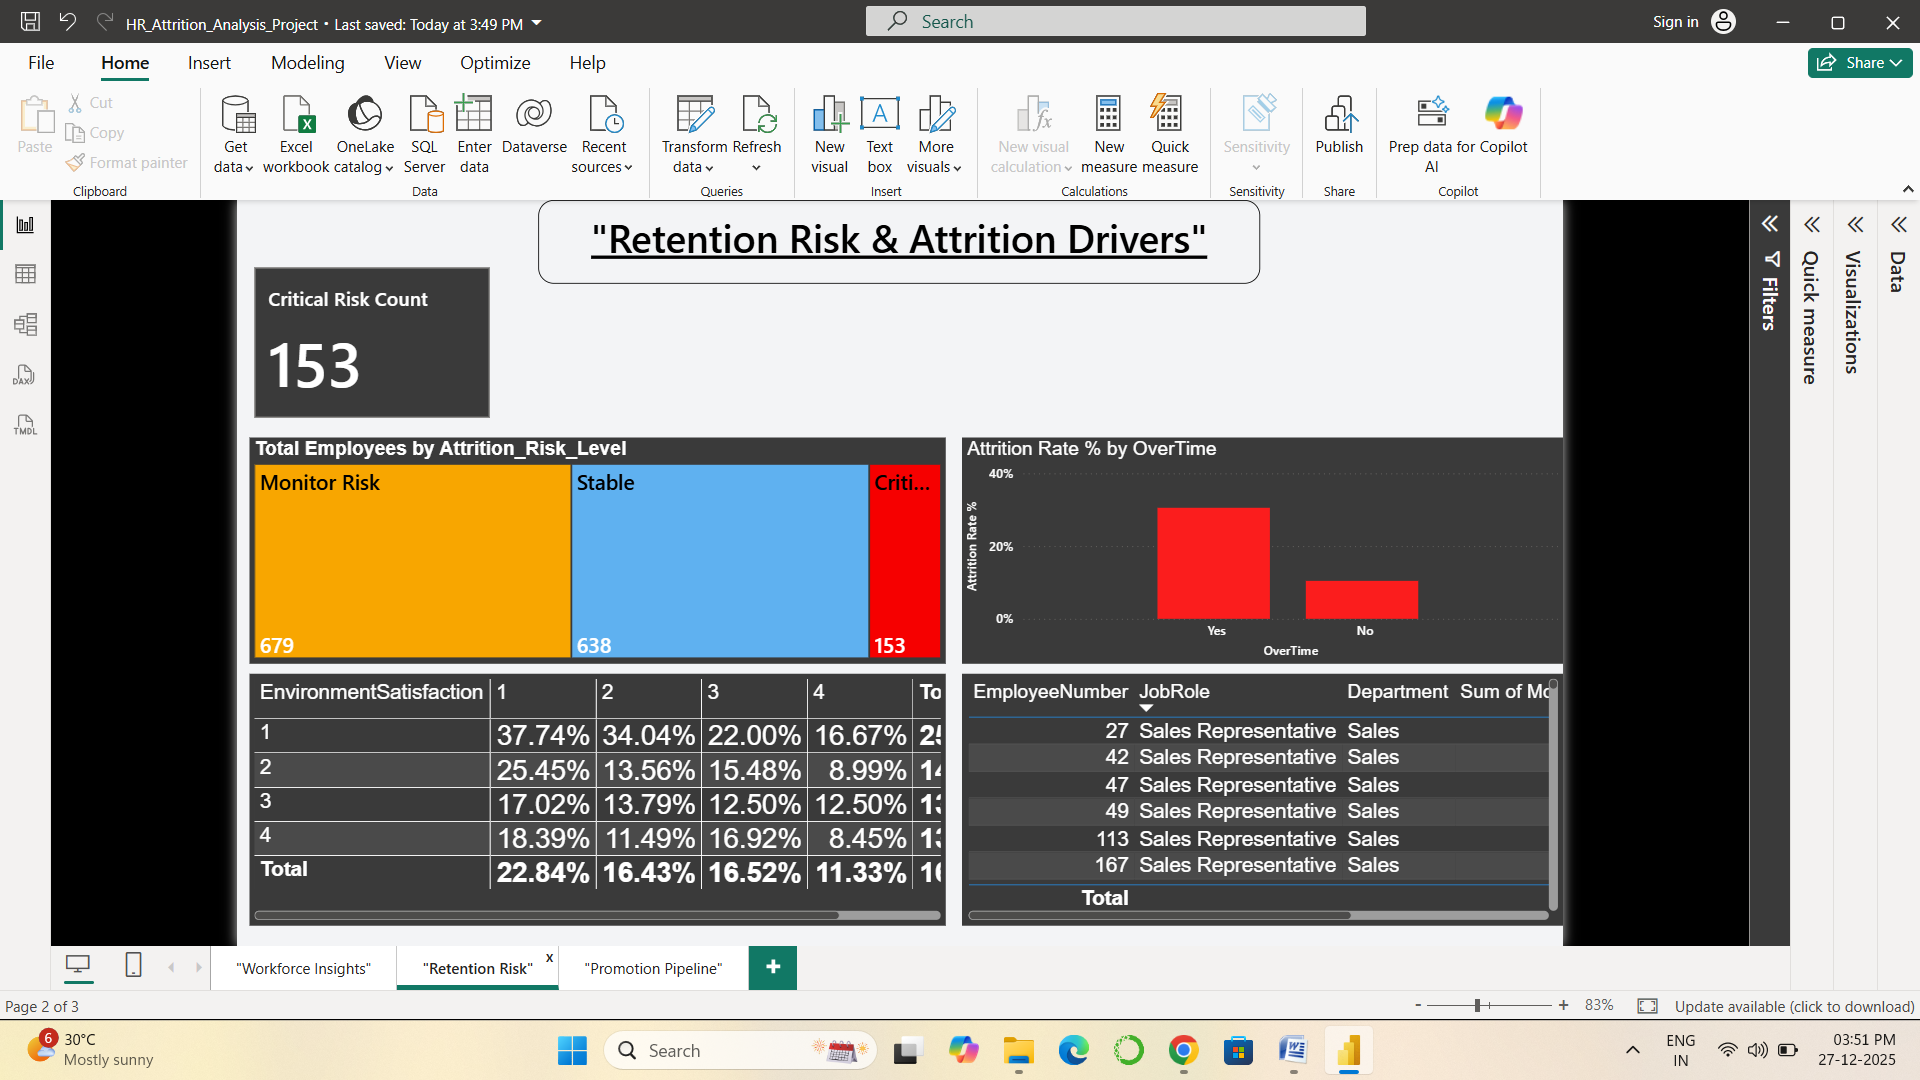

Layout of this report page (visuals, bound fields, positions):
{"tool":"powerbi","page":{"name":"\"Retention Risk\"","canvas":[1280,720],"ordinal":1},"visuals":[{"type":"textbox","box":[290.9,0,697.1,81],"z":0},{"type":"cardVisual","fields":{"Data":["powerbi_dept_summary.Critical Risk Count"]},"box":[12.3,60.4,237.4,155.1],"z":1000},{"type":"treemap","fields":{"Group":["powerbi_master.Attrition_Risk_Level"],"Values":["powerbi_dept_summary.Total Employees"]},"box":[12.3,229.2,672.4,218.2],"z":1001},{"type":"clusteredColumnChart","fields":{"Category":["powerbi_master.OverTime"],"Y":["powerbi_dept_summary.Attrition Rate %"]},"box":[699.8,229.2,580.4,218.2],"z":1002},{"type":"pivotTable","fields":{"Rows":["powerbi_master.EnvironmentSatisfaction"],"Columns":["powerbi_master.JobSatisfaction"],"Values":["powerbi_dept_summary.Attrition Rate %"]},"box":[12.3,456.9,672.4,242.9],"z":1003},{"type":"tableEx","fields":{"Values":["powerbi_master.EmployeeNumber","powerbi_master.JobRole","powerbi_master.Department","Sum(powerbi_master.MonthlyIncome)","powerbi_master.Attrition_Risk_Level"]},"box":[699.8,456.9,580.4,242.9],"z":1004}]}

Visuals, with their boxes on the page's 1280x720 design canvas (x1, y1, x2, y2). These are canvas units, not pixel positions in the 1920x1080 screenshot, which may show the page scaled, cropped or inside an application window:
textbox: box=[291, 0, 988, 81]
cardVisual - powerbi_dept_summary.Critical Risk Count: box=[12, 60, 250, 216]
treemap - powerbi_master.Attrition_Risk_Level x powerbi_dept_summary.Total Employees: box=[12, 229, 685, 447]
clusteredColumnChart - powerbi_master.OverTime x powerbi_dept_summary.Attrition Rate %: box=[700, 229, 1280, 447]
pivotTable - powerbi_master.EnvironmentSatisfaction x powerbi_master.JobSatisfaction: box=[12, 457, 685, 700]
tableEx - powerbi_master.EmployeeNumber x powerbi_master.JobRole: box=[700, 457, 1280, 700]
